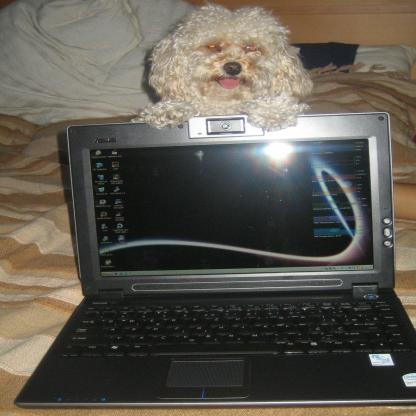toy_poodle: (131, 3, 312, 132)
